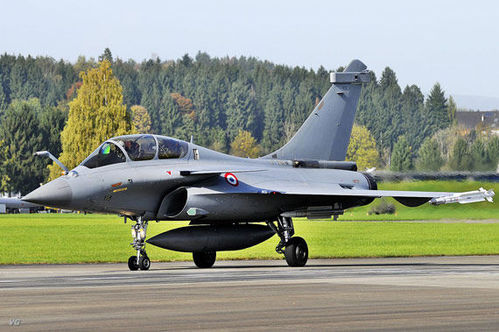airplane: (5, 57, 491, 274)
